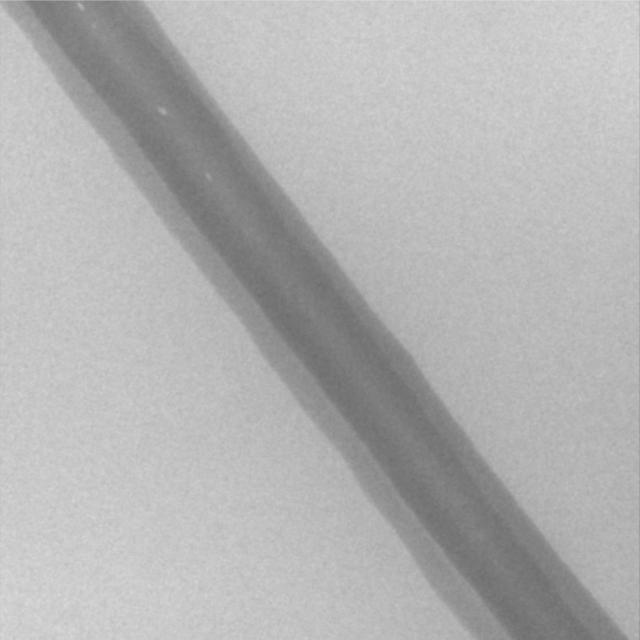air hole: (158, 106, 168, 118), (204, 170, 213, 182), (76, 4, 84, 13)
